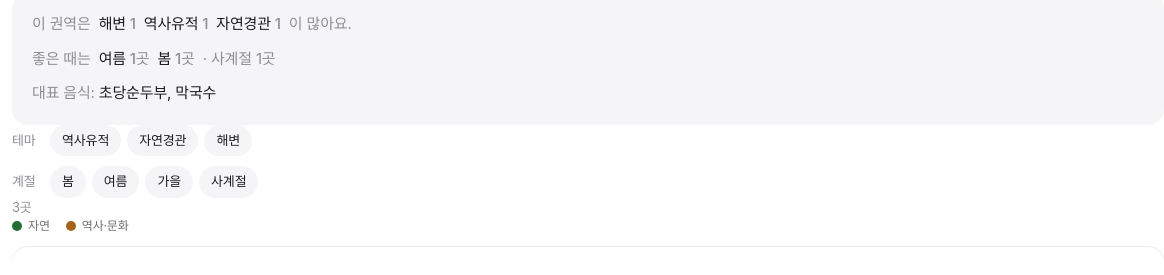
Test: RegionExplorer › 테마를 고르면 목록이 좁혀진다
This screenshot has width=1164, height=275.
Click the button "해변".
click(228, 140)  # box [204,124,252,156]
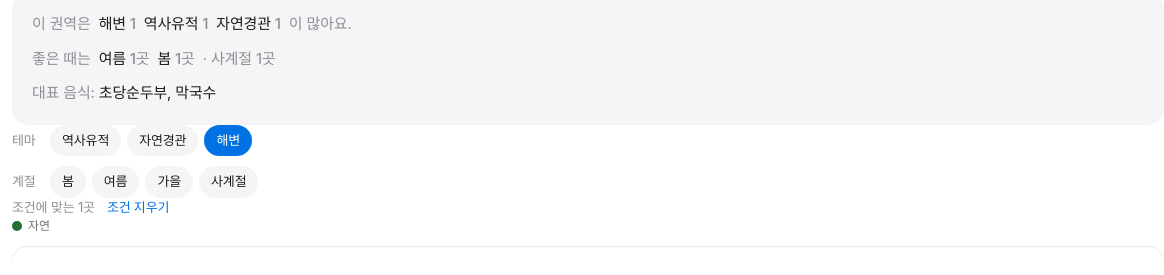
Now the text "조건에 맞는 1곳" is shown, box [12,198,95,217]
